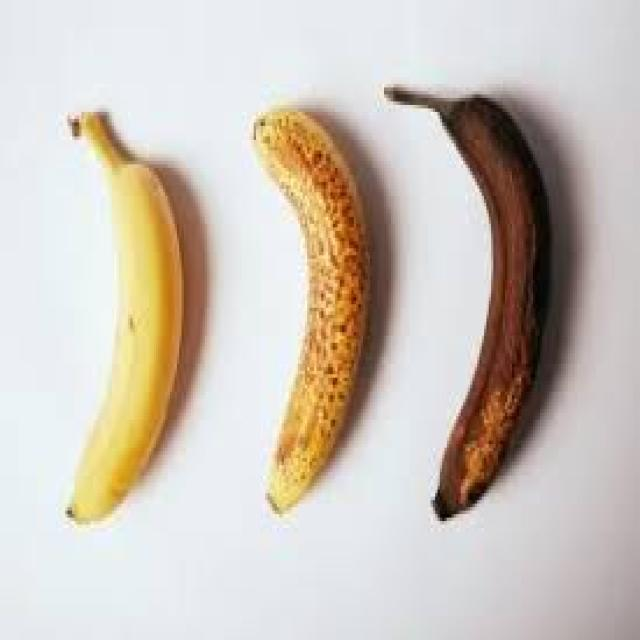food_waste: (391, 87, 547, 518), (67, 112, 182, 518), (254, 108, 368, 511)
